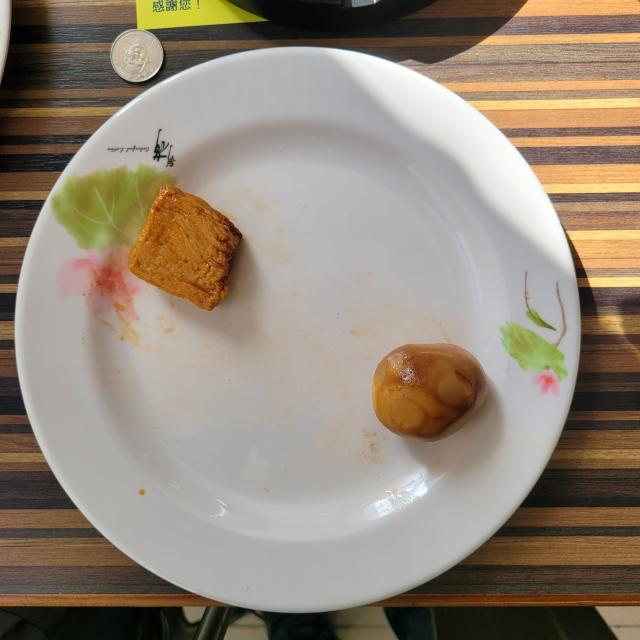coin: (110, 29, 164, 82)
creamy tofu: (129, 184, 241, 310)
soy egg: (372, 344, 486, 439)
